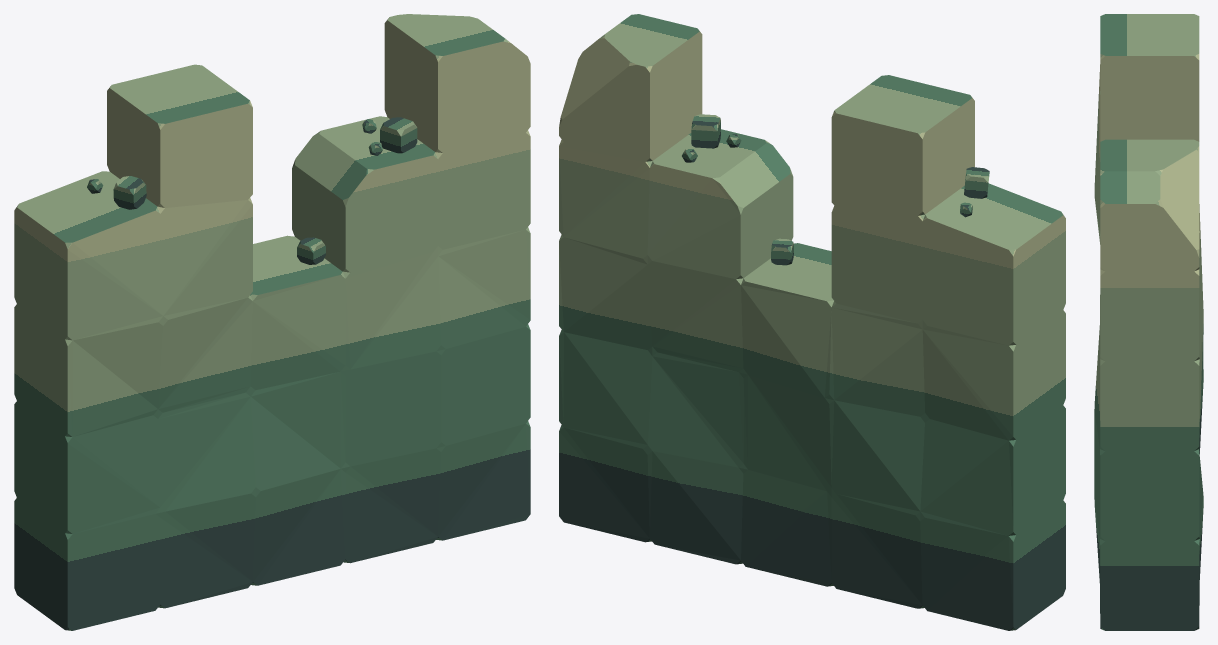
File: Wall 2.003.fbx
3 renders of one model, left to right at view 1: azimuth 30°, elevation 25°; view 2: azimuth 150°, elevation 25°; view 3: azimuth 270°, elevation 25°, orthographic. The views are drawn at different scales.
Visible parts, largest first — view 1: Wall 2.003; view 2: Wall 2.003; view 3: Wall 2.003.
Part boxes in pixels (x1=…): Wall 2.003: x1=14, y1=14, x2=530, y2=630; Wall 2.003: x1=559, y1=14, x2=1065, y2=630; Wall 2.003: x1=1094, y1=14, x2=1203, y2=630.
Size of the model in its own units: 500 by 500 by 110.
